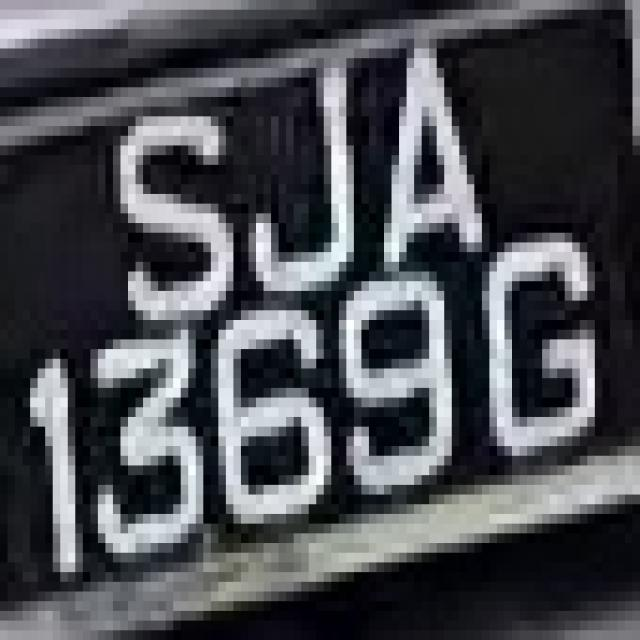1: (22, 310, 98, 592)
3: (68, 320, 203, 562)
6: (188, 310, 332, 524)
9: (332, 252, 474, 524)
A: (346, 29, 497, 262)
G: (474, 204, 610, 466)
J: (226, 58, 354, 320)
S: (113, 78, 226, 349)
